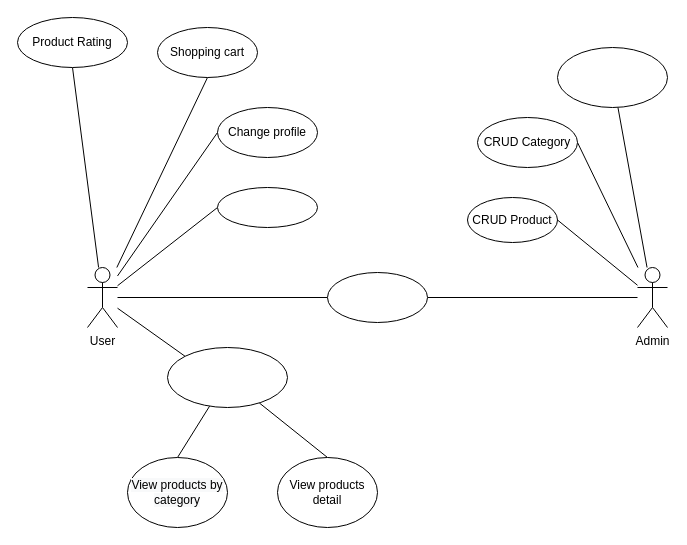
Some shapes in this 687 by 545 pixel diagram are drawn without their labels. Here are the shapes that lost their labels. From the top down, the centre of each, then its label:
At (612,77): "CRUD Account".
At (267,207): "Register".
At (377,297): "Login / logout".
At (227,377): "View Product".
